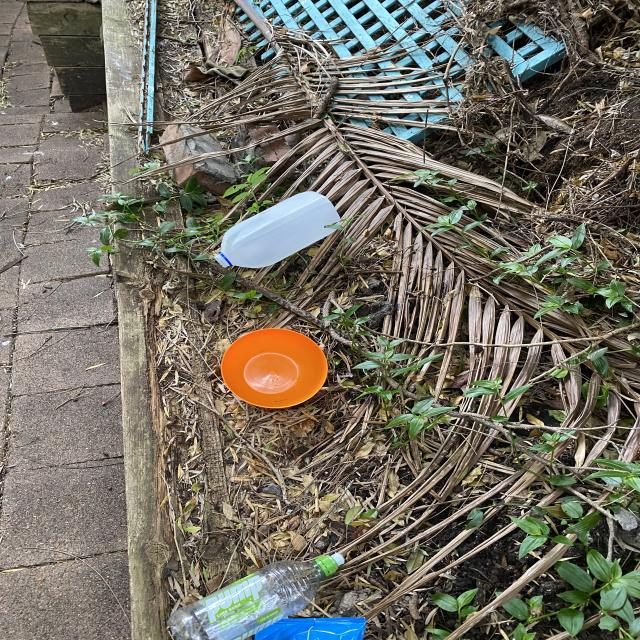bag: (255, 617, 366, 640)
bottle: (166, 552, 345, 640), (214, 191, 340, 268)
bowl: (221, 328, 328, 408)
